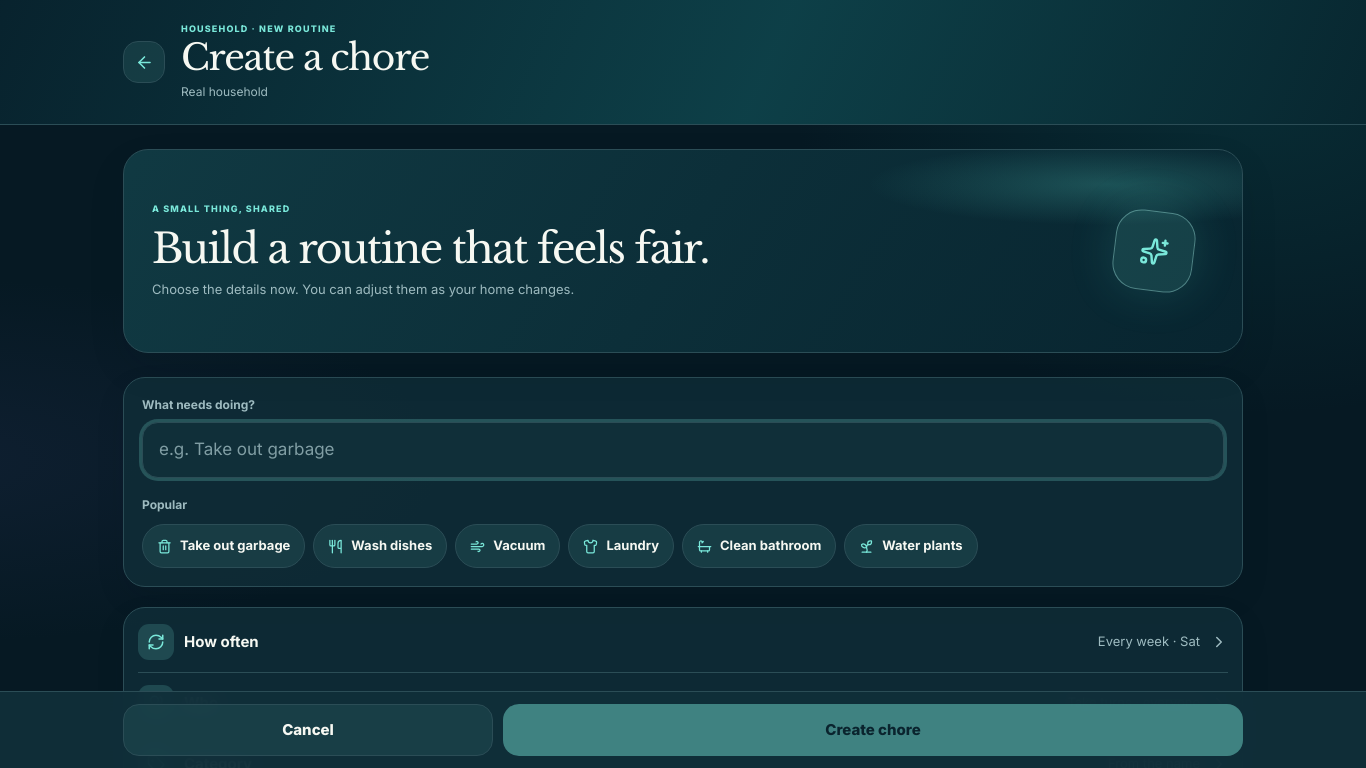
ChoreFormScreen · quick create › suggests matching chores while typing and fills everything from one
Later steps or results of the test are not shown.
Type "garbage" into the field labelled "What needs doing?". click: coordinates (683, 450)
box: x1=142 y1=422 x2=1224 y2=478
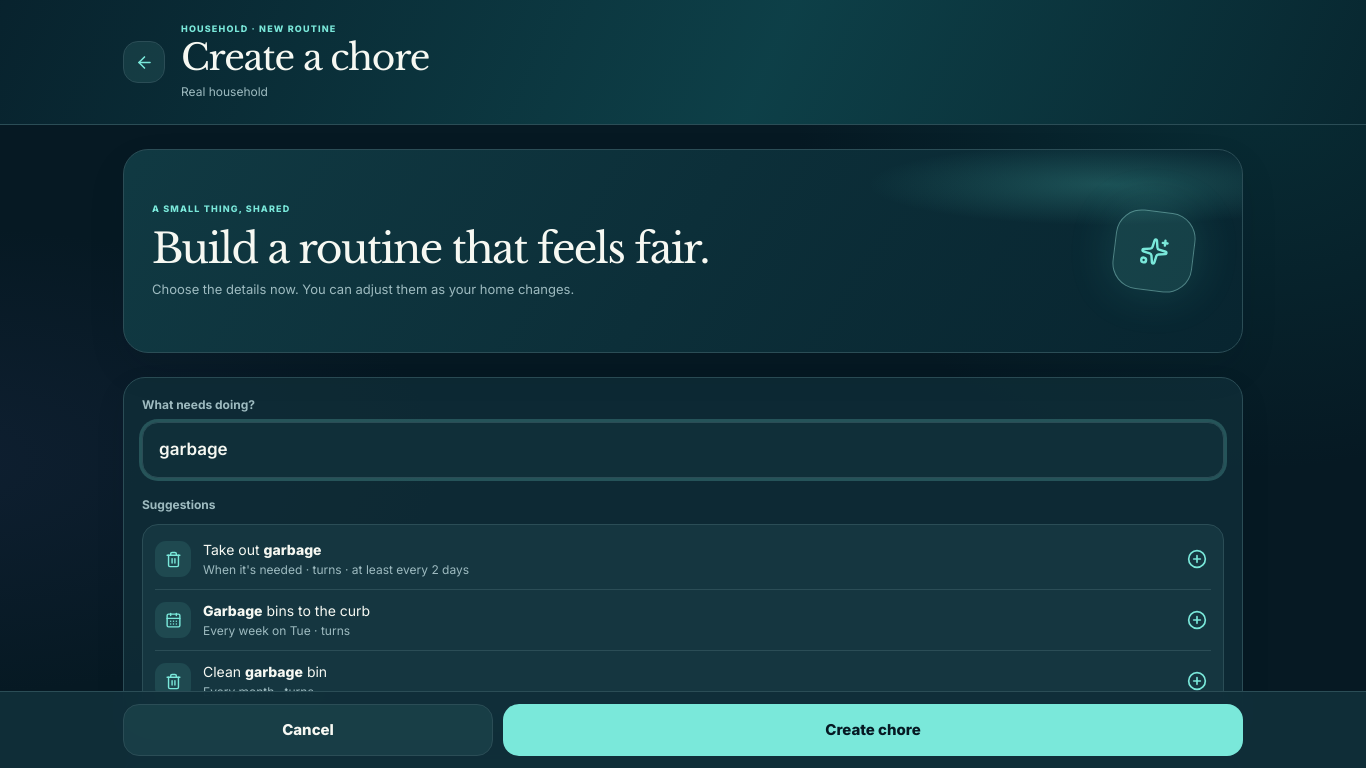
Expected: the 1st text "garbage" is shown, x1=264 y1=541 x2=322 y2=558
Expected: the text "Popular" is gone
Click the button with aria-label "Use Clean garbage bin". click: coordinates (173, 681)
box: x1=155 y1=651 x2=1211 y2=711
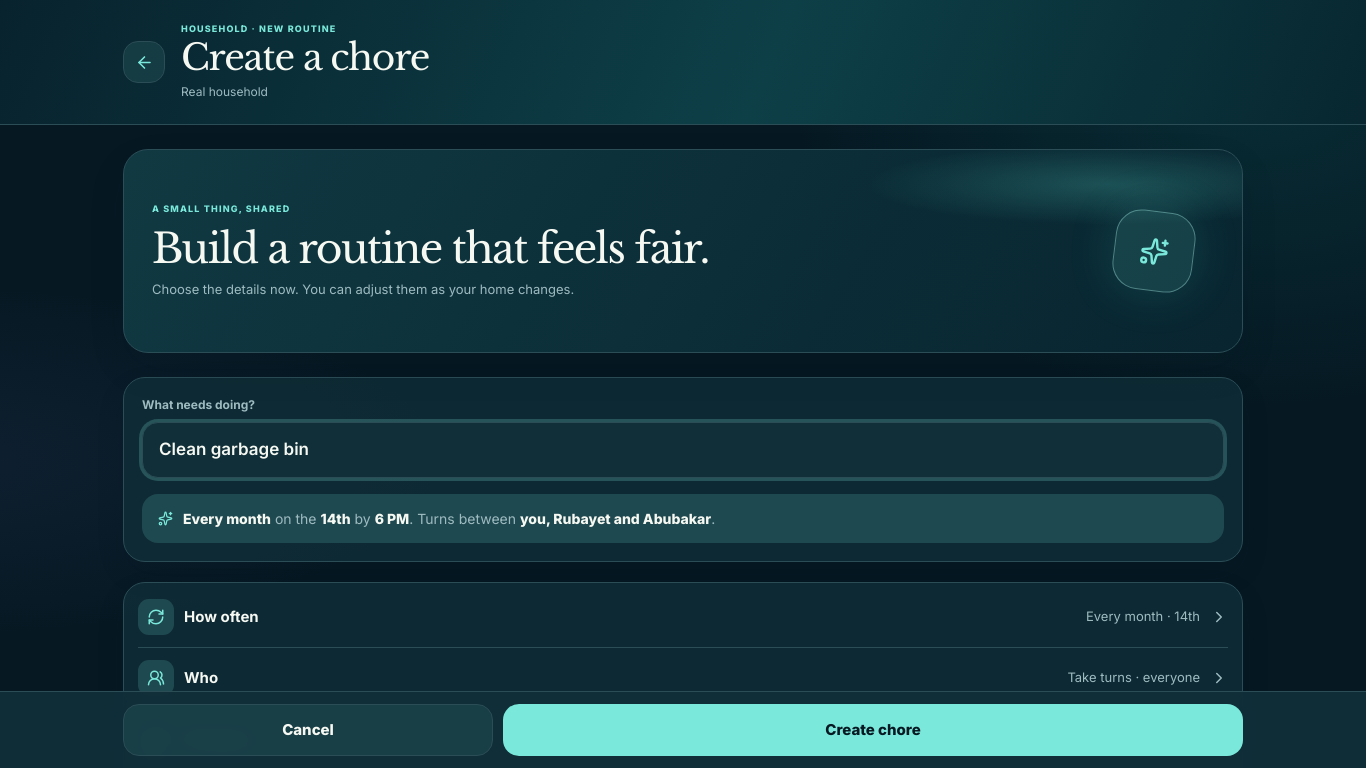
Expected: the field labelled "What needs doing?" holds "Clean garbage bin", x1=142 y1=422 x2=1224 y2=478
Expected: the text "Suggestions" is gone
